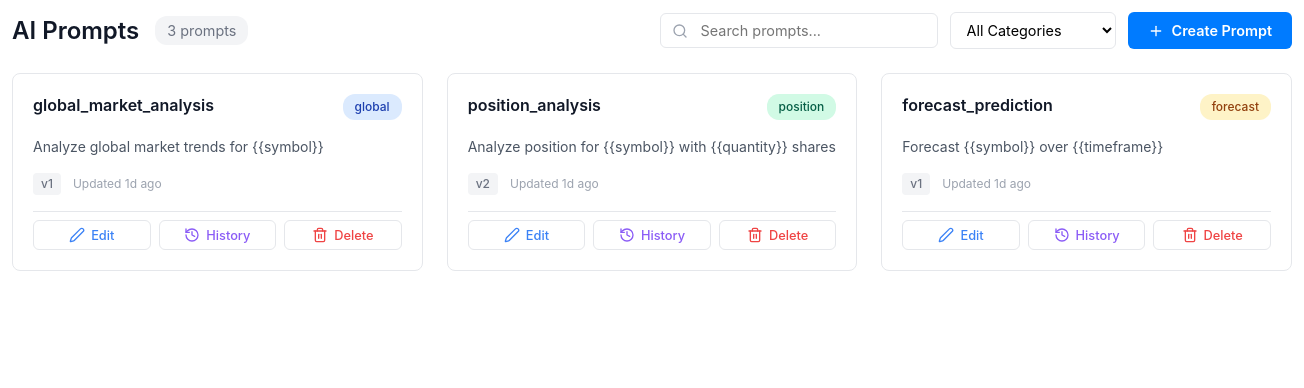
Scenario: PromptsList › Search Functionality › should show "no results" when search returns nothing
The image size is (1304, 388).
Type "nonexistent" into the field labelled "Search prompts...". click: (798, 30)
box: [660,13,938,48]
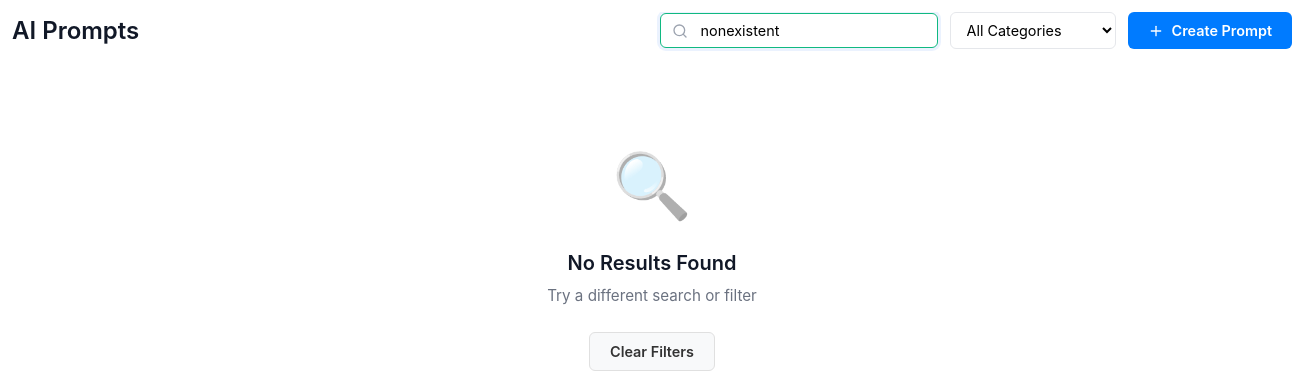
Check: the heading "No Results Found" is shown, box [568,249,736,277]
Check: the button "Clear Filters" is shown, box [589,332,715,371]
